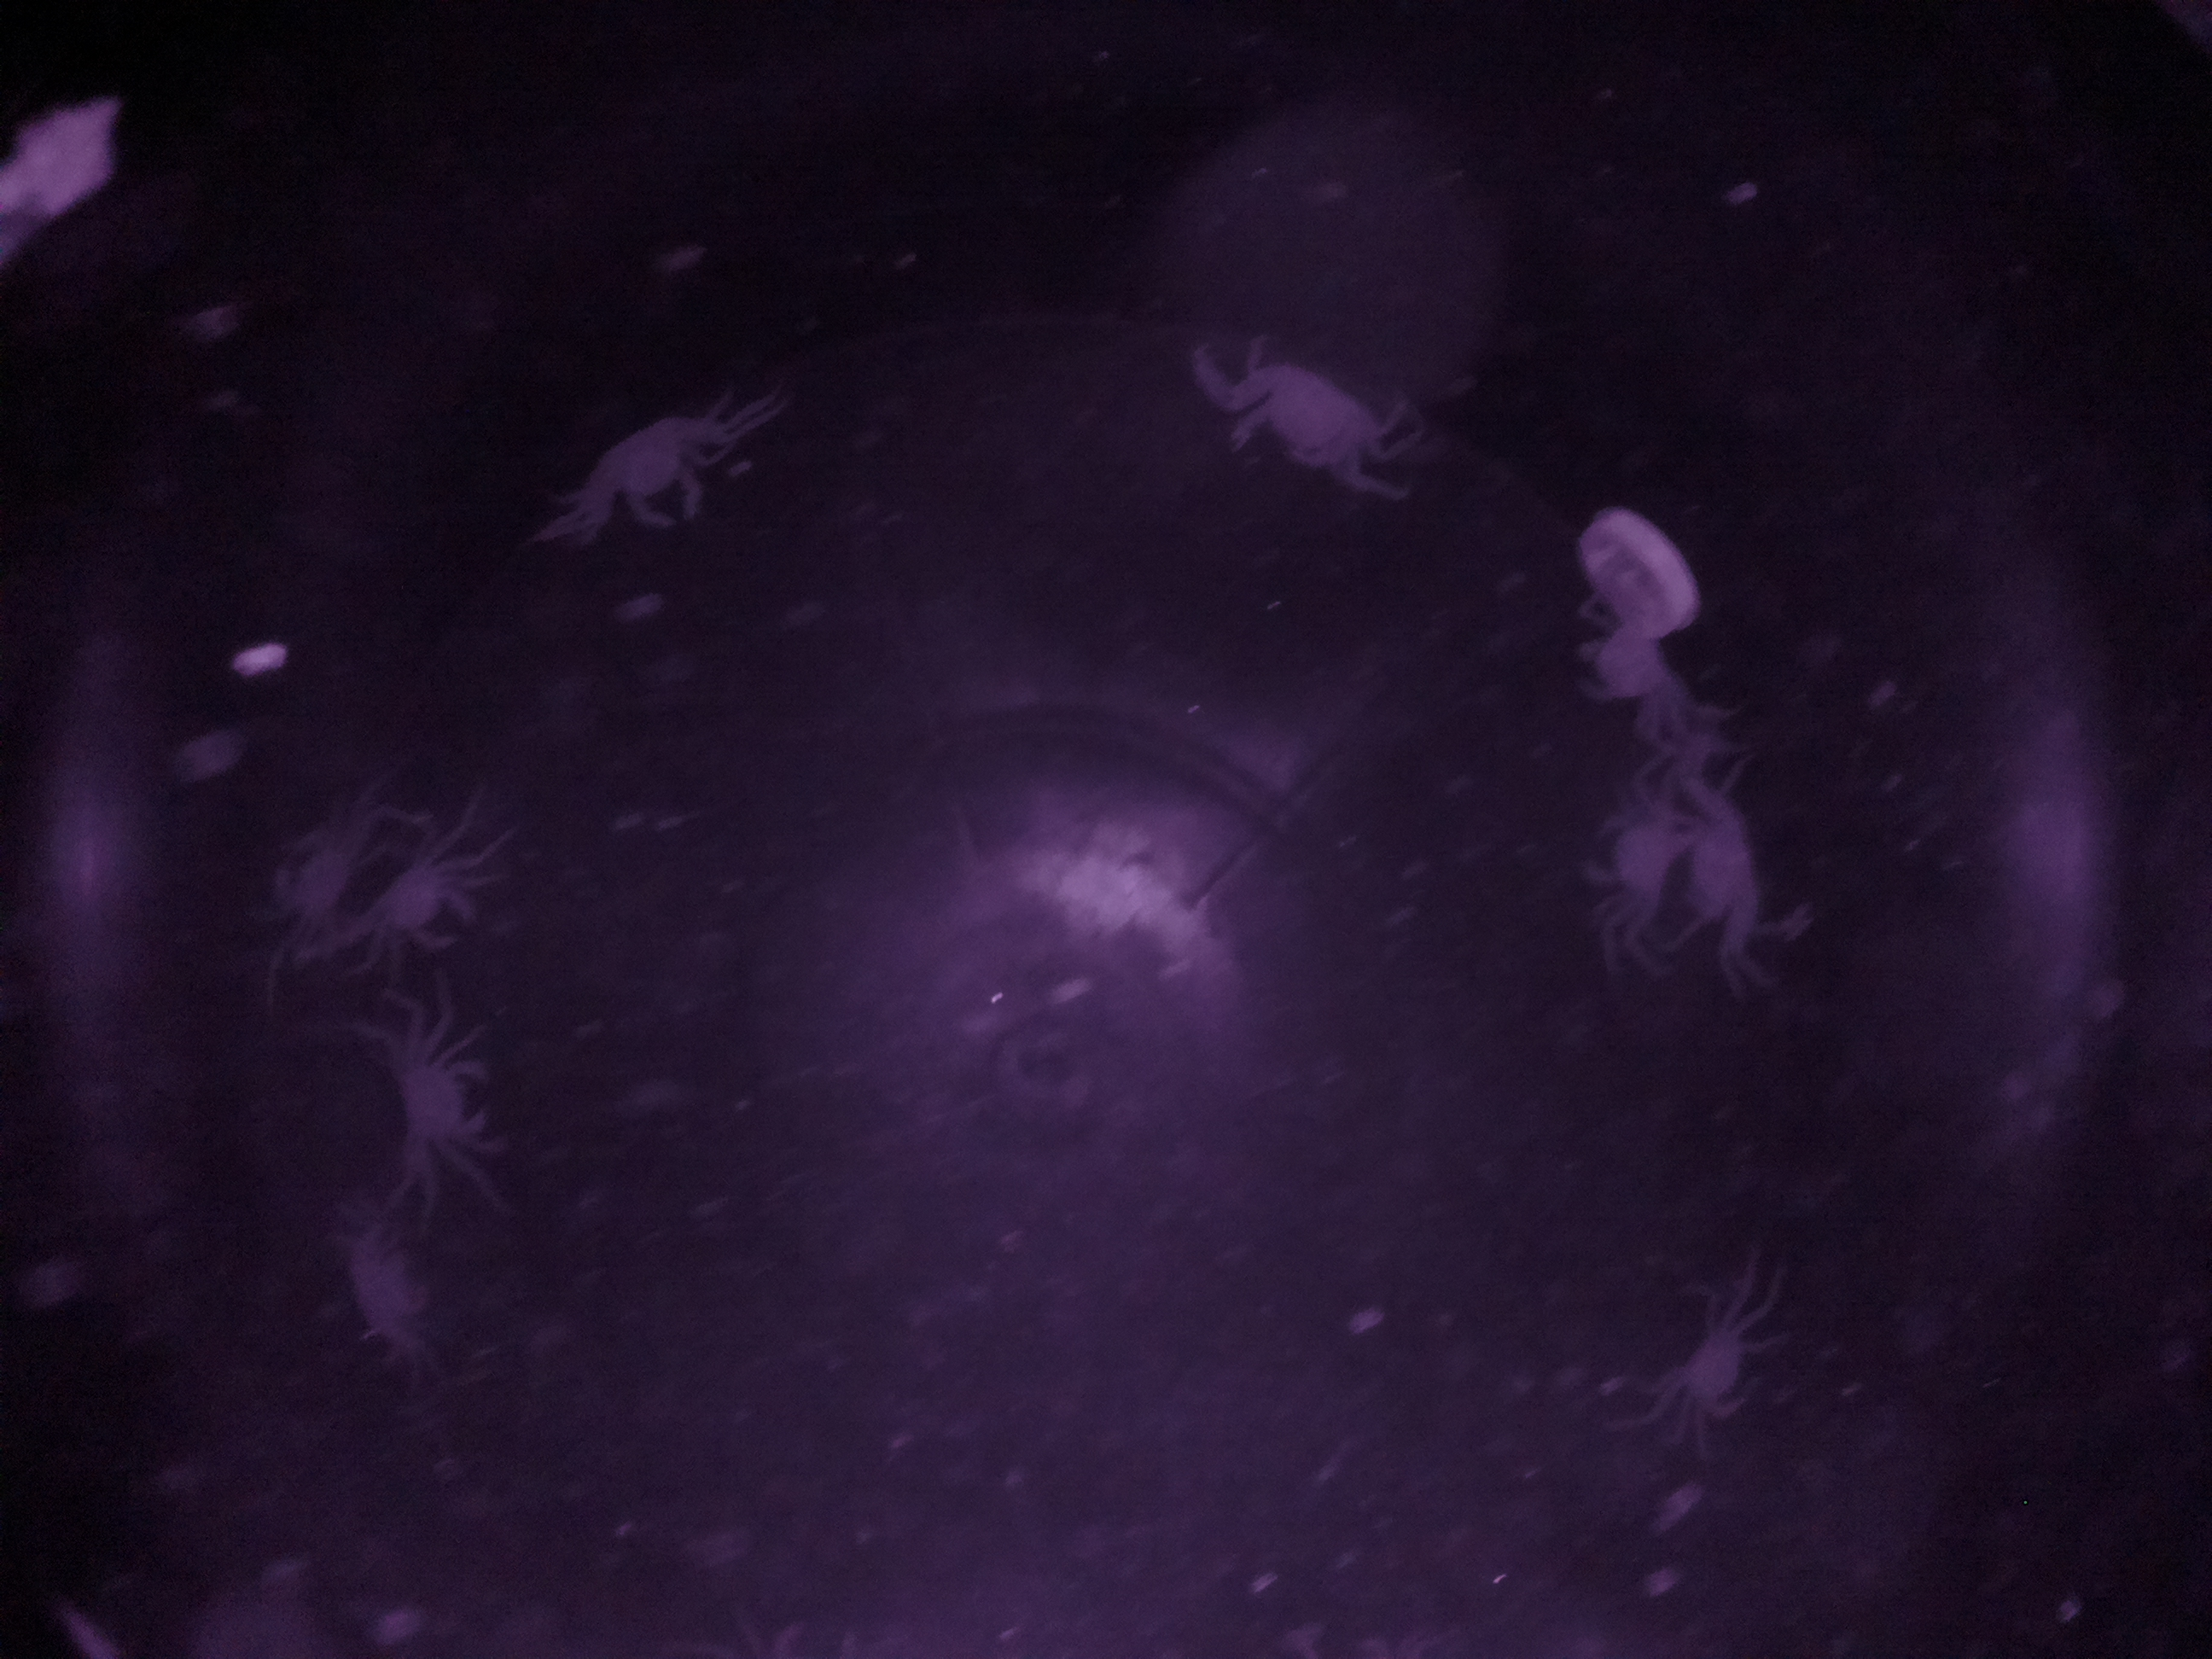Crab: (1190, 331, 1409, 504), (348, 1004, 538, 1201), (561, 385, 730, 563), (336, 828, 500, 979), (1648, 1270, 1791, 1443), (1571, 746, 1693, 929)
